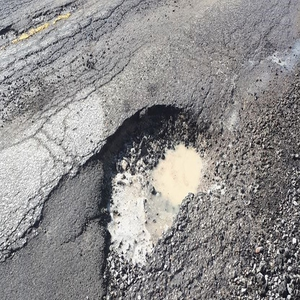pothole: (93, 103, 226, 284)
